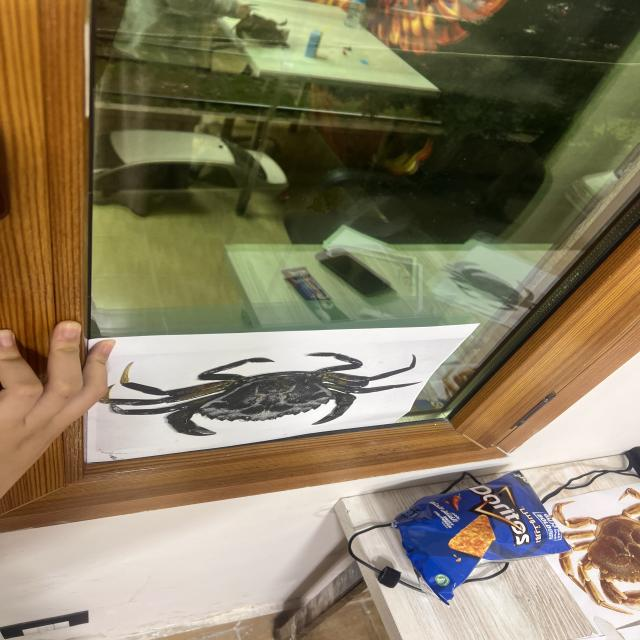European_Green_Crab: (96, 347, 426, 441)
